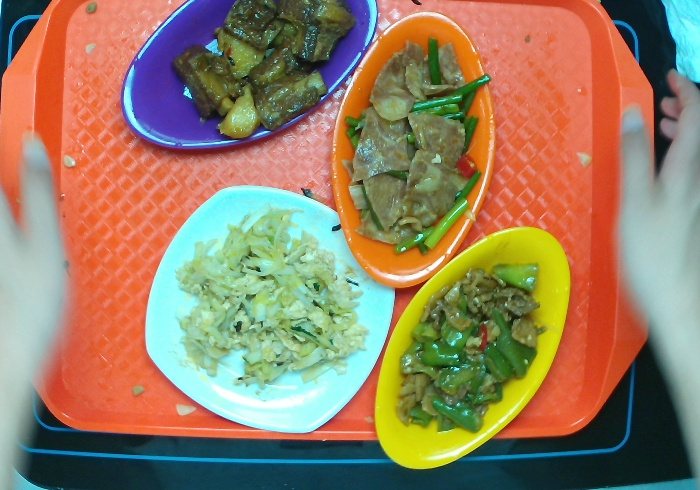RJxy-Fen_Hong_Tuo_Yuan: (124, 1, 377, 148)
RJxy-Huang_Se_Tuo_Yuan: (367, 233, 568, 469)
RJxy-Ju_Huang_Tuo_Yuan: (333, 5, 498, 299)
RJxy-Si_Fang_Die: (138, 184, 394, 439)
